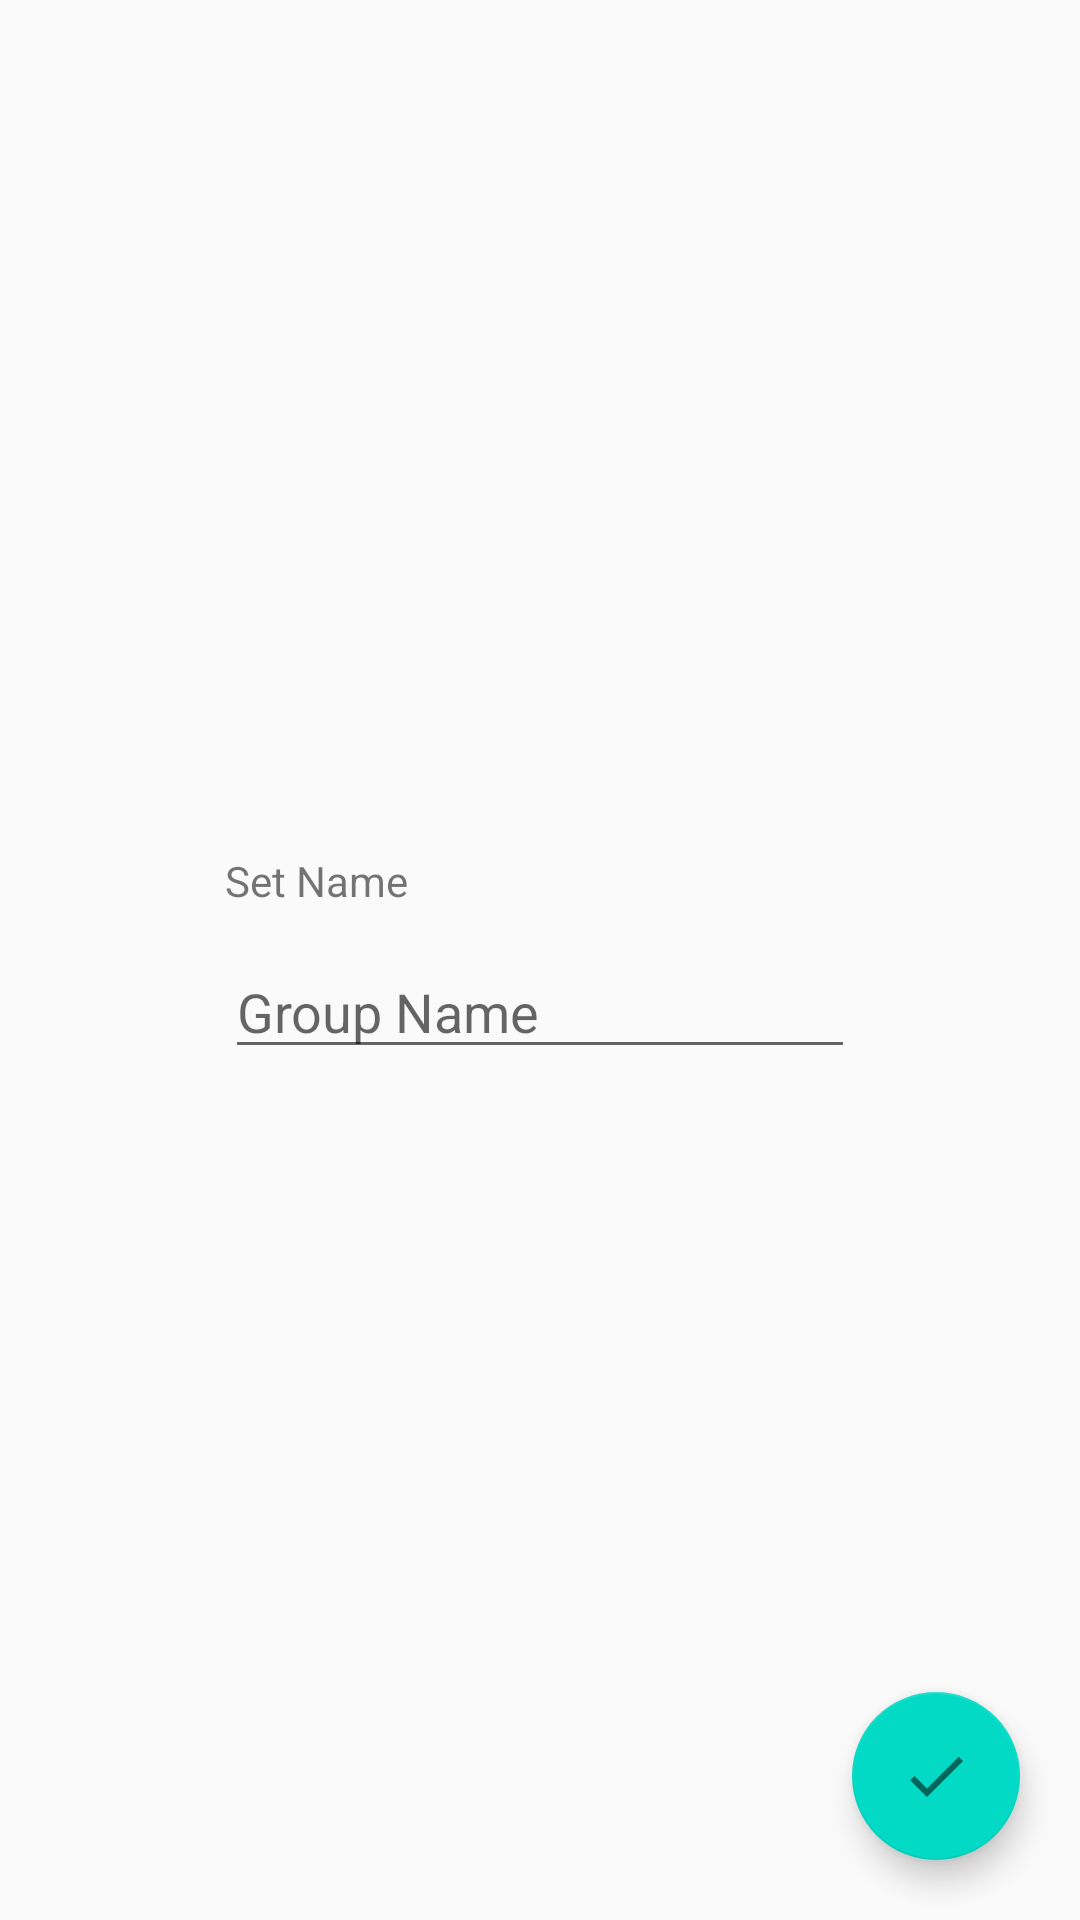

Screen size 1080 × 1920. Icon name, then its center in pixels as (x,y):
check: (936,1776)
